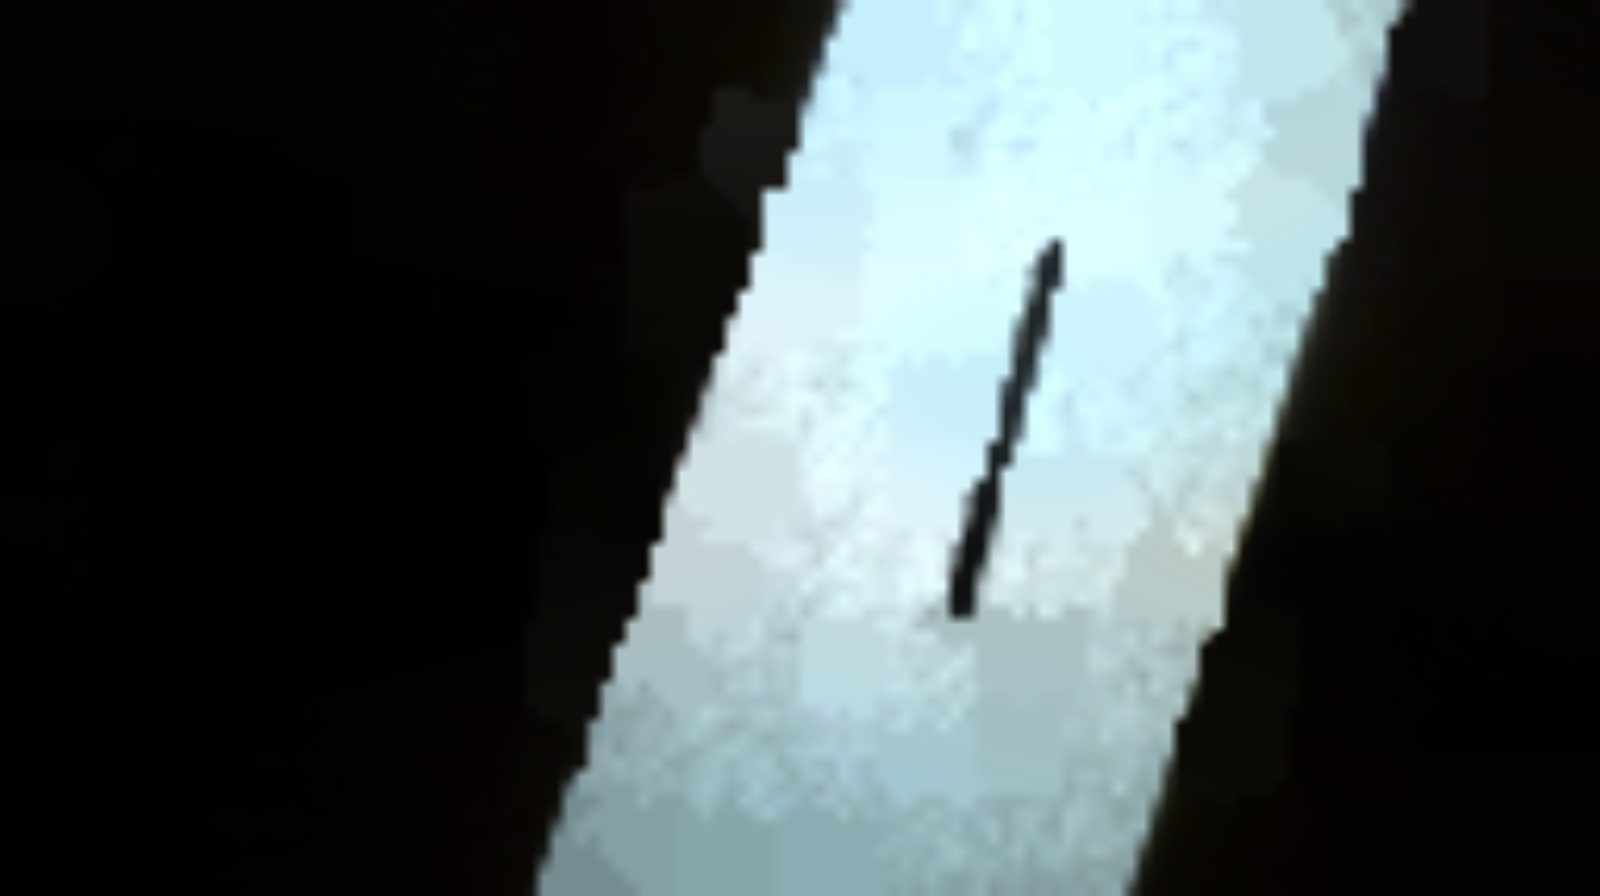S002: (852, 214, 1131, 681)
